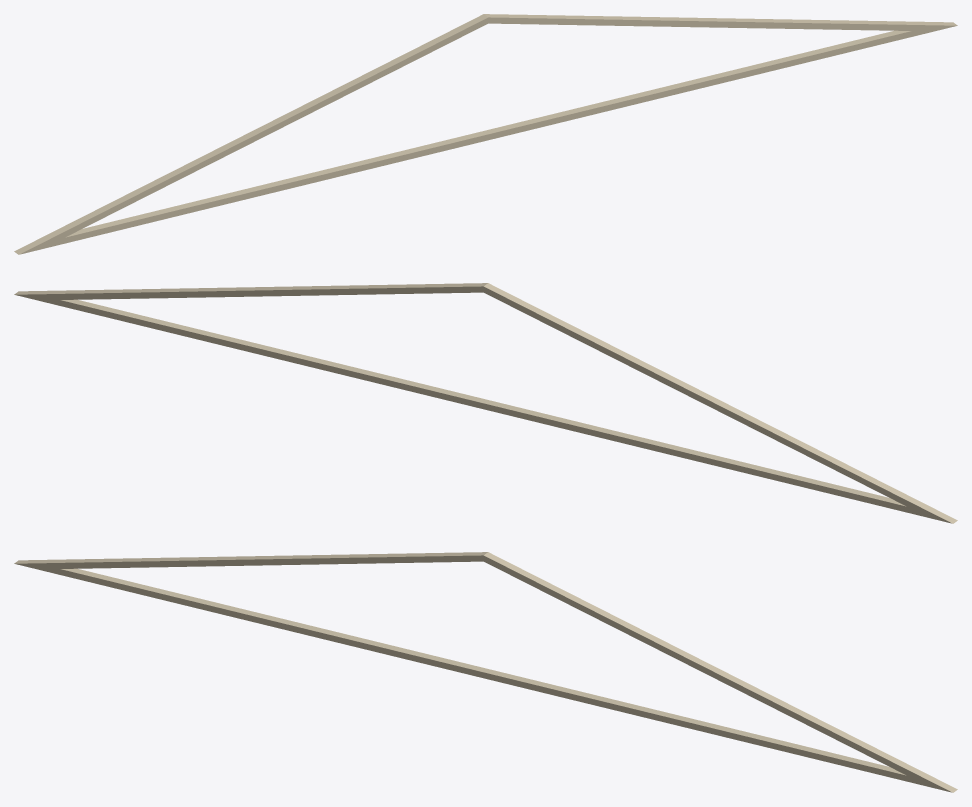
Rendered from waterfront-pediment-moulding.lod2.glb.
3 renders of one model, top to bottom at view 1: azimuth 30°, elevation 25°; view 2: azimuth 150°, elevation 25°; view 3: azimuth 330°, elevation 25°, orthographic.
Visible parts, largest first — view 1: waterfront-pediment-moulding; view 2: waterfront-pediment-moulding; view 3: waterfront-pediment-moulding.
Part boxes in pixels (bbox=[...]): waterfront-pediment-moulding: bbox=[14, 14, 957, 254]; waterfront-pediment-moulding: bbox=[14, 283, 957, 523]; waterfront-pediment-moulding: bbox=[14, 552, 957, 792].
Bounding box in the file's own units: 28 × 3.5 × 0.24.
